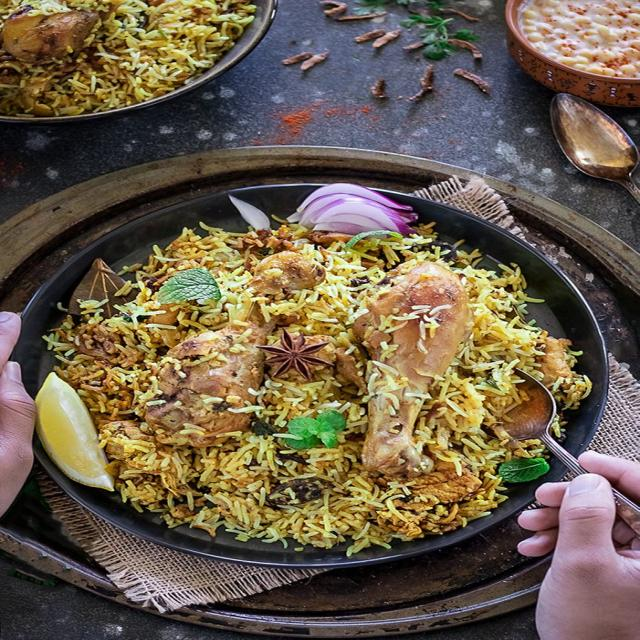chicken biryani: (96, 242, 538, 528)
